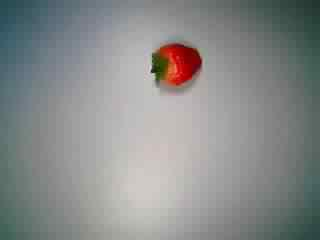strawberry: (141, 34, 206, 96)
